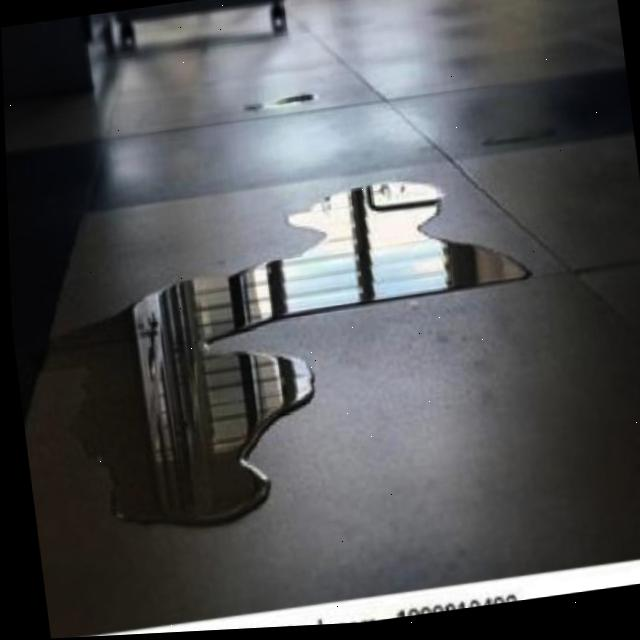spillage: (58, 187, 528, 528)
